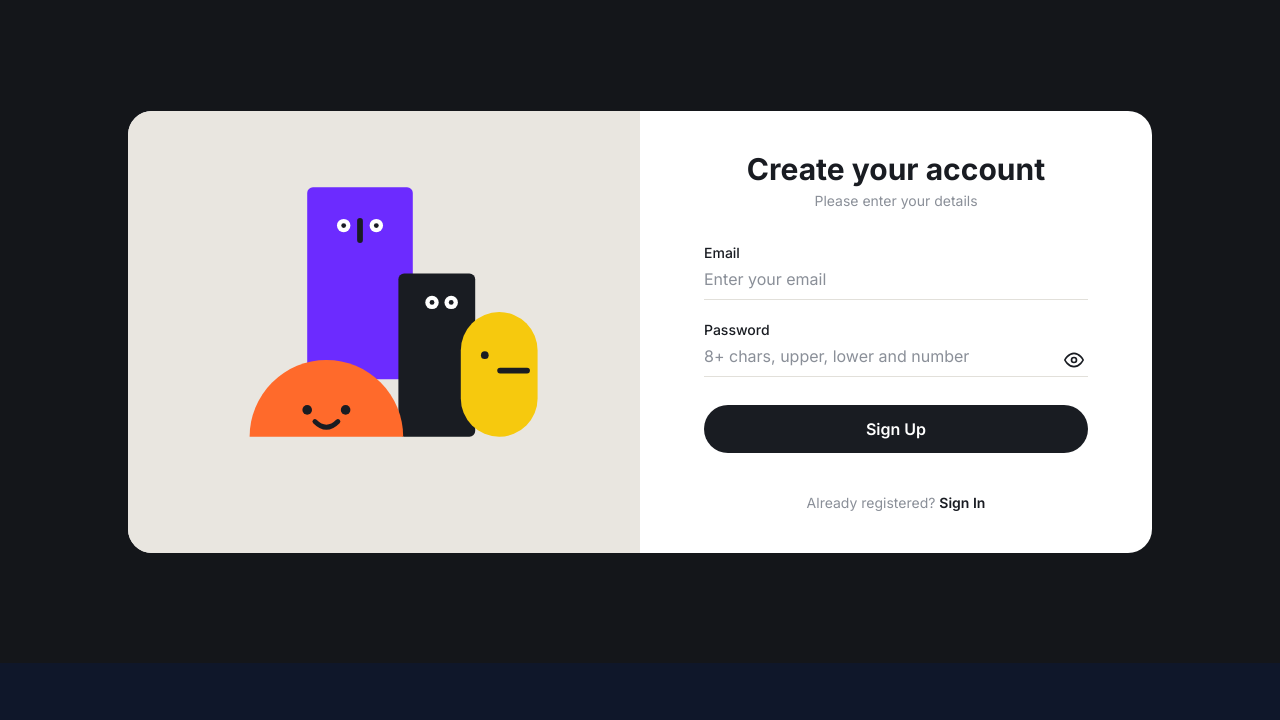
Test: RegisterPage submission › surfaces a duplicate-user error from the gateway
Type "dup@test.co" into the field labelled "Email".
click(896, 283); type("dup@test.co")  # box [704,266,1088,300]
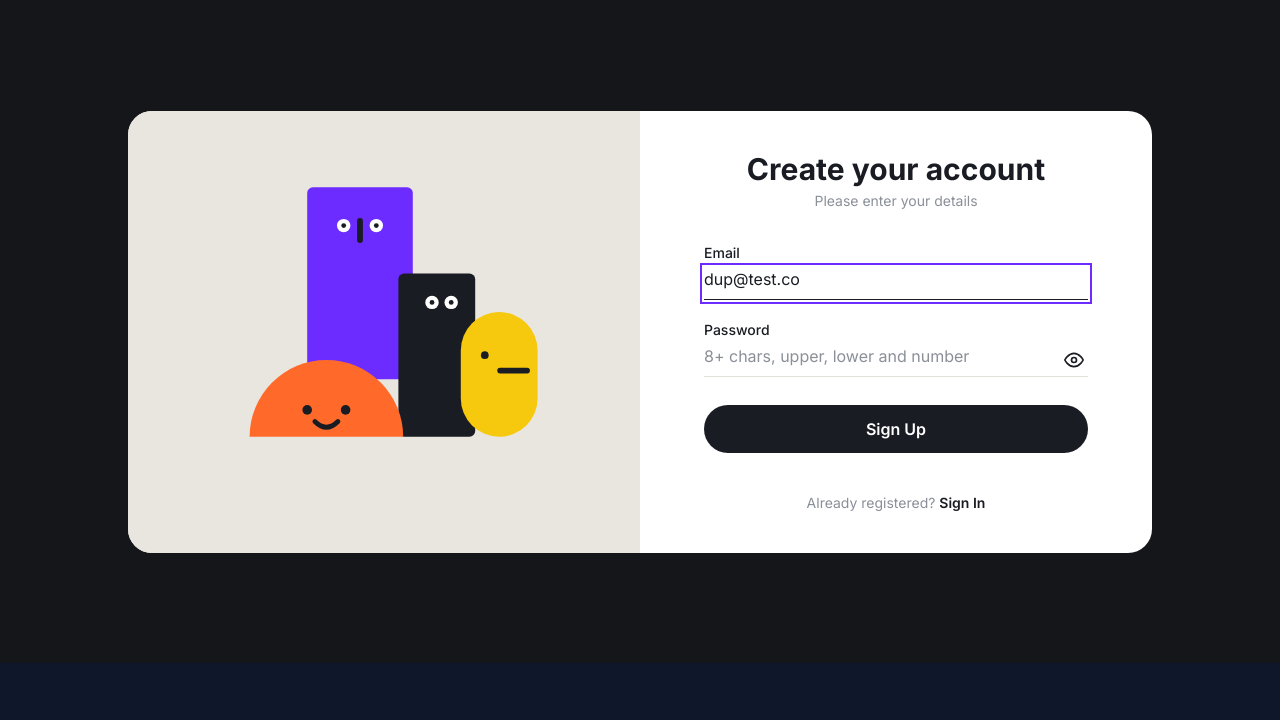
Type "Secret123" into the password field labelled "Password".
click(896, 360); type("Secret123")  # box [704,344,1088,376]
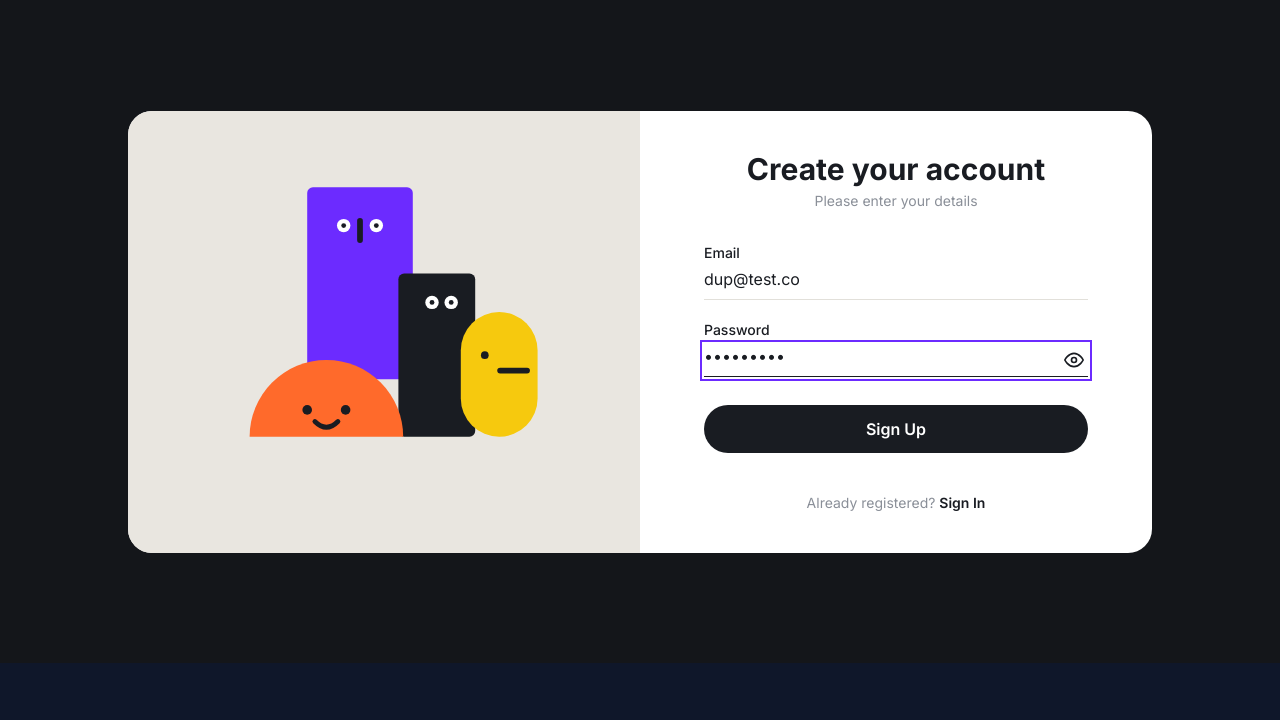
Click the button "Sign Up".
click(896, 428)  # box [704,404,1088,452]
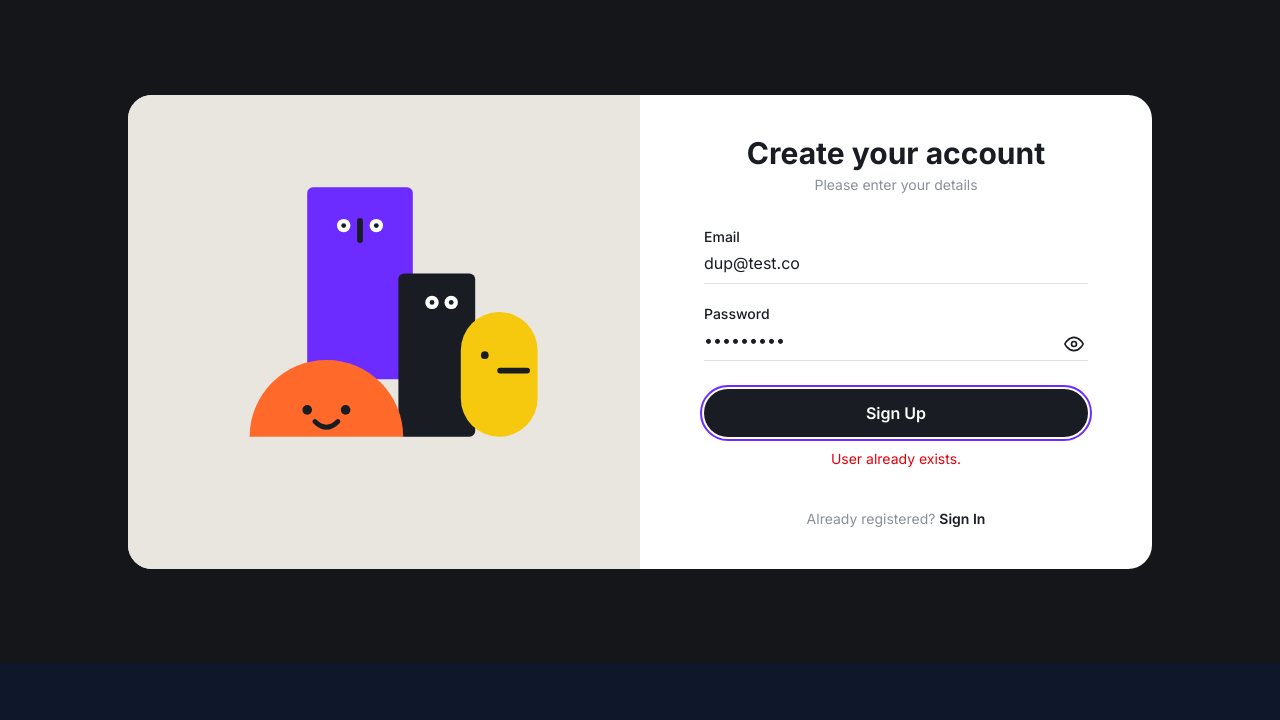
Expected: the button "Sign Up" is enabled, [704,388,1088,436]
Now the text "User already exists." is shown, box [831,450,961,466]
